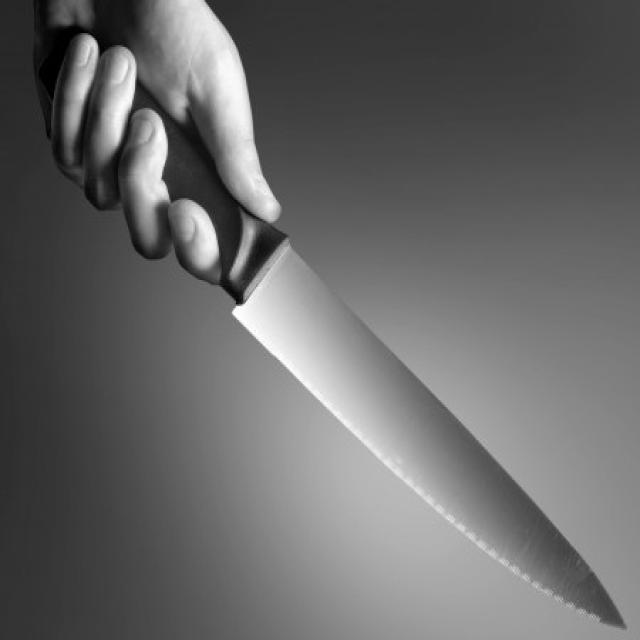knife: (32, 18, 632, 637)
